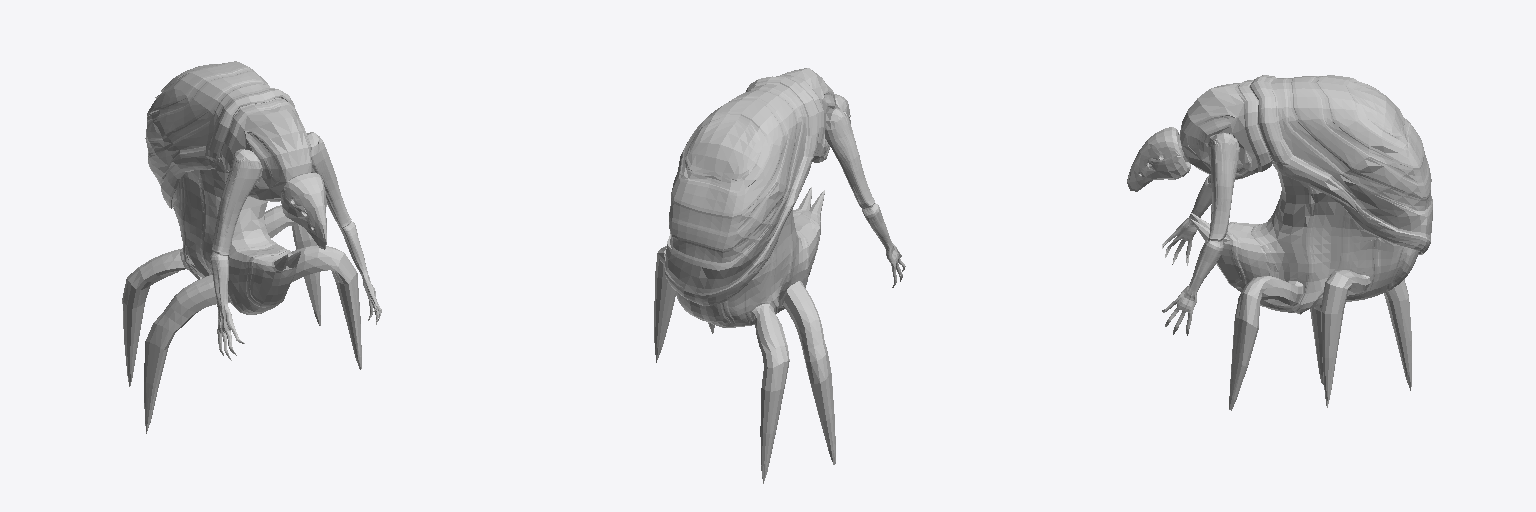
The model's file is Correr.0015.obj.
3 views of the same model, side by side, from view 1: azimuth 30°, elevation 25°; view 2: azimuth 150°, elevation 25°; view 3: azimuth 270°, elevation 25° (orthographic).
Visible parts, largest first — view 1: pCube16; view 2: pCube16; view 3: pCube16.
Part boxes in pixels (x1,y1,x2,y2): pCube16: (122,61,381,433); pCube16: (654,68,905,483); pCube16: (1127,75,1432,410).
Size of the model in its own units: 2.13 by 3.93 by 3.18.